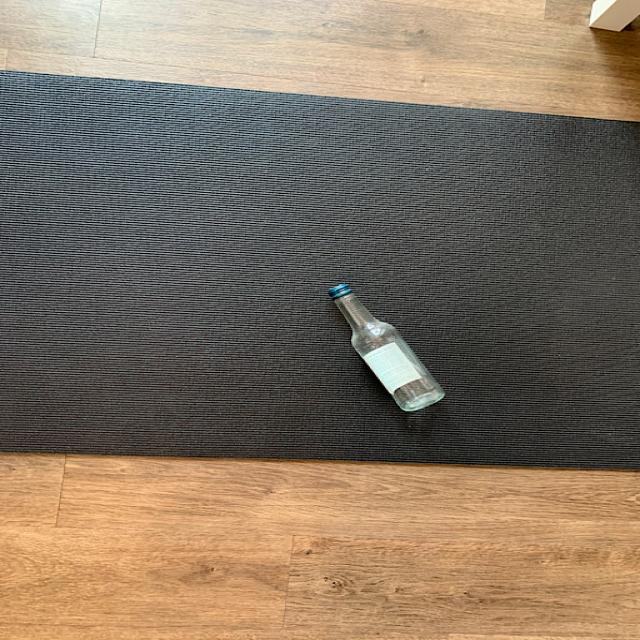litter: (328, 286, 448, 415)
